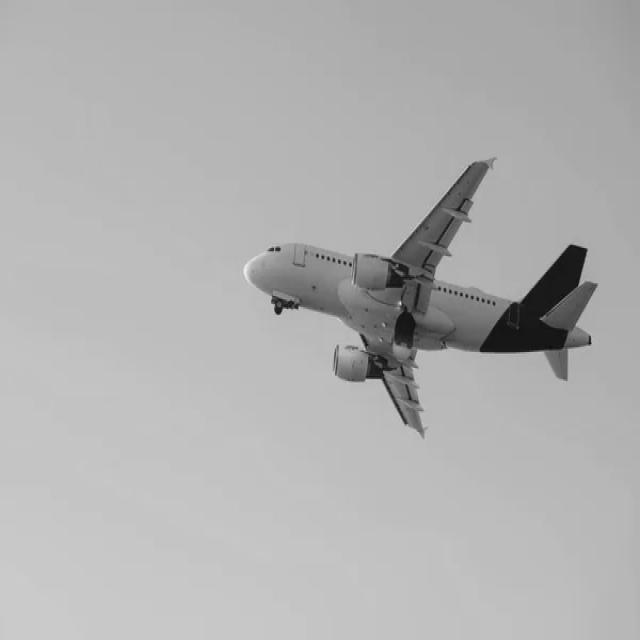Aircraft: (241, 135, 600, 445)
